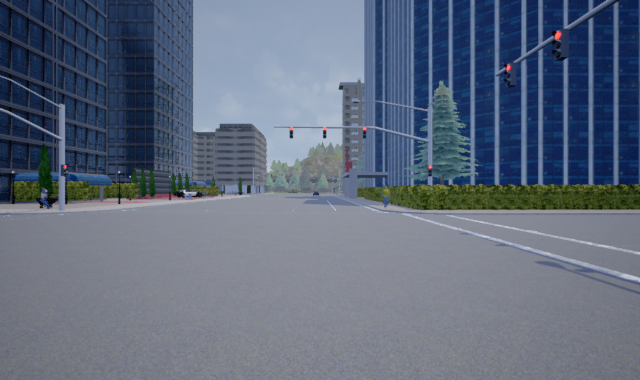pedestrian: (37, 184, 52, 209), (381, 185, 391, 208)
vehicle: (173, 189, 204, 199)
